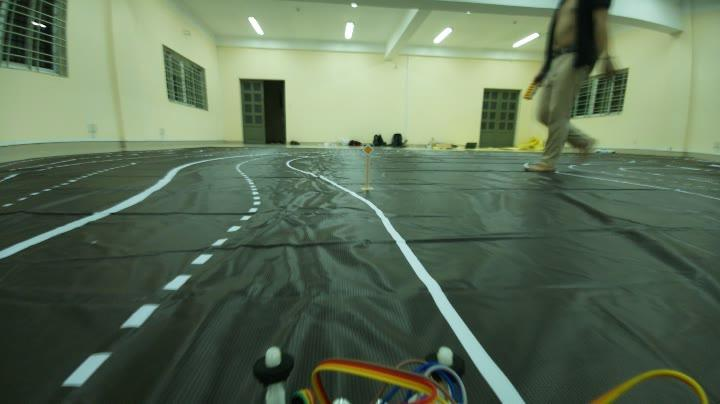priority: (361, 142, 375, 154)
